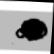correct: (18, 16, 50, 46)
